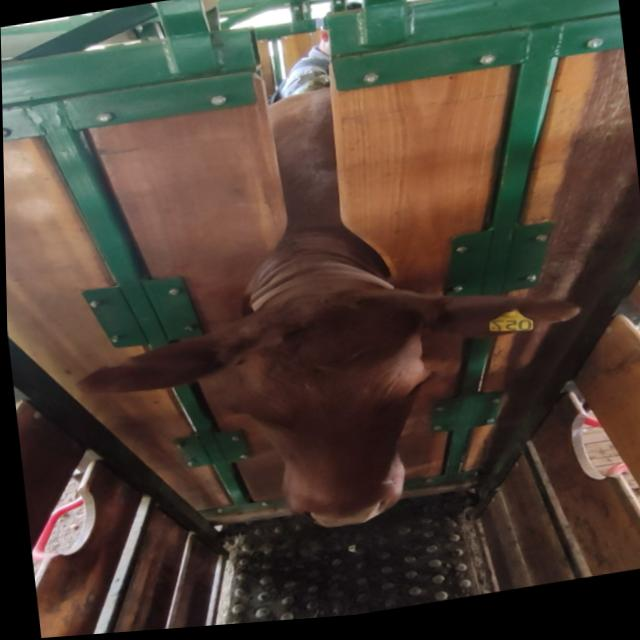cowFace: (224, 283, 445, 547)
